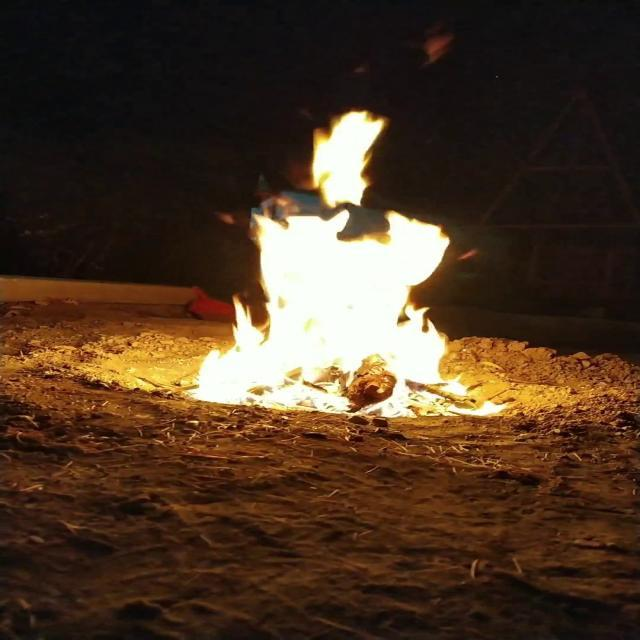Fire: (188, 102, 506, 417)
